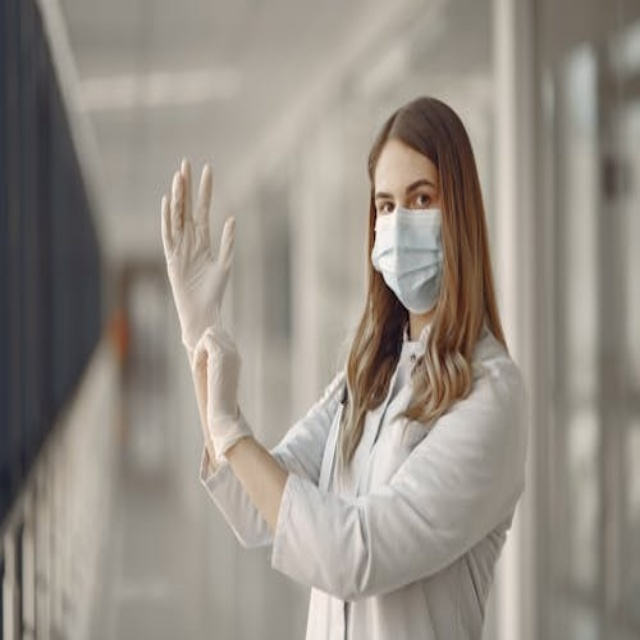Guantes: (162, 155, 236, 362), (195, 323, 253, 462)
Mascara: (372, 205, 446, 312)
Sin_gafas: (370, 173, 438, 217)
